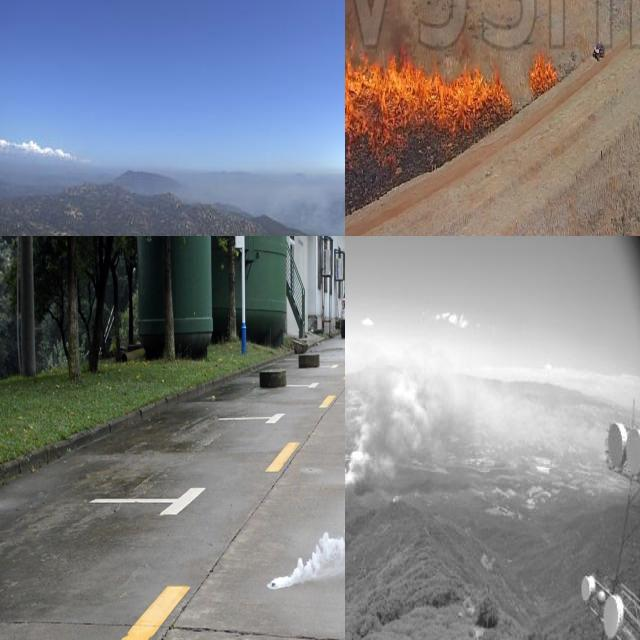fire: (345, 17, 513, 166), (527, 45, 561, 105)
smoke: (345, 338, 527, 490), (266, 408, 345, 590), (232, 171, 345, 236)
